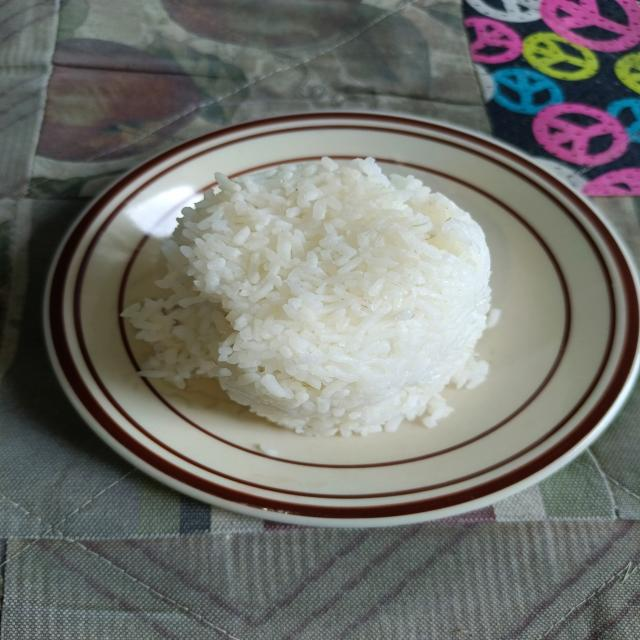Chicken -Chicken Inasal-: (163, 155, 494, 429)
